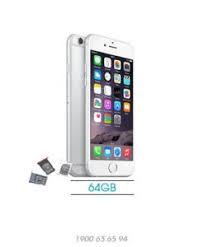iphone: (81, 31, 140, 176)
iphone6: (81, 33, 140, 178)
